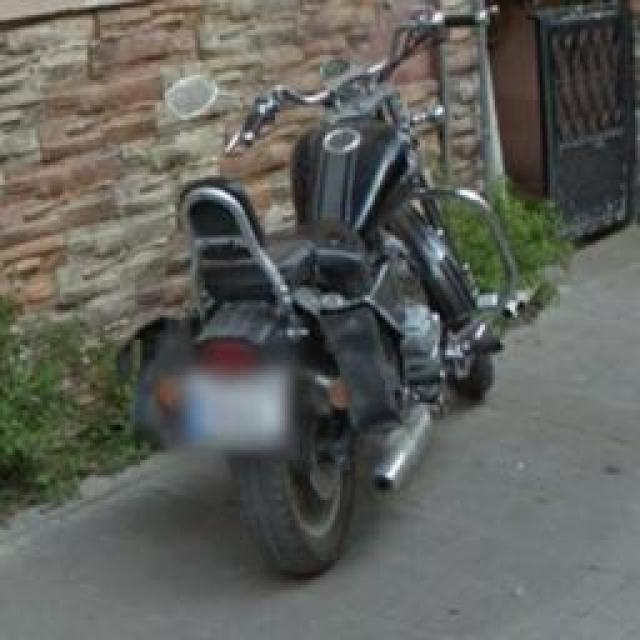motorbike: (177, 18, 510, 607)
